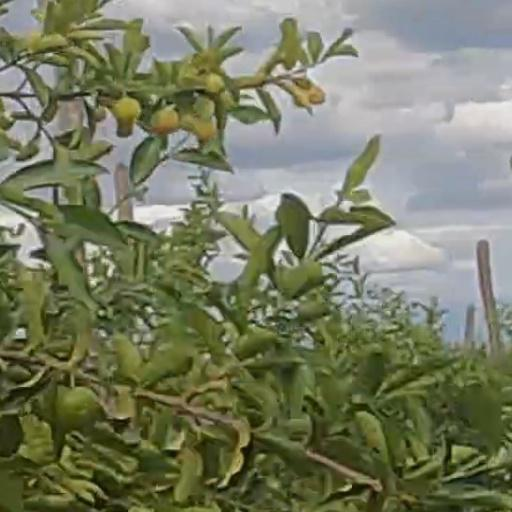acerola_verde: (60, 388, 101, 426), (116, 99, 141, 124)
acerola_vermelha: (153, 106, 176, 133)
